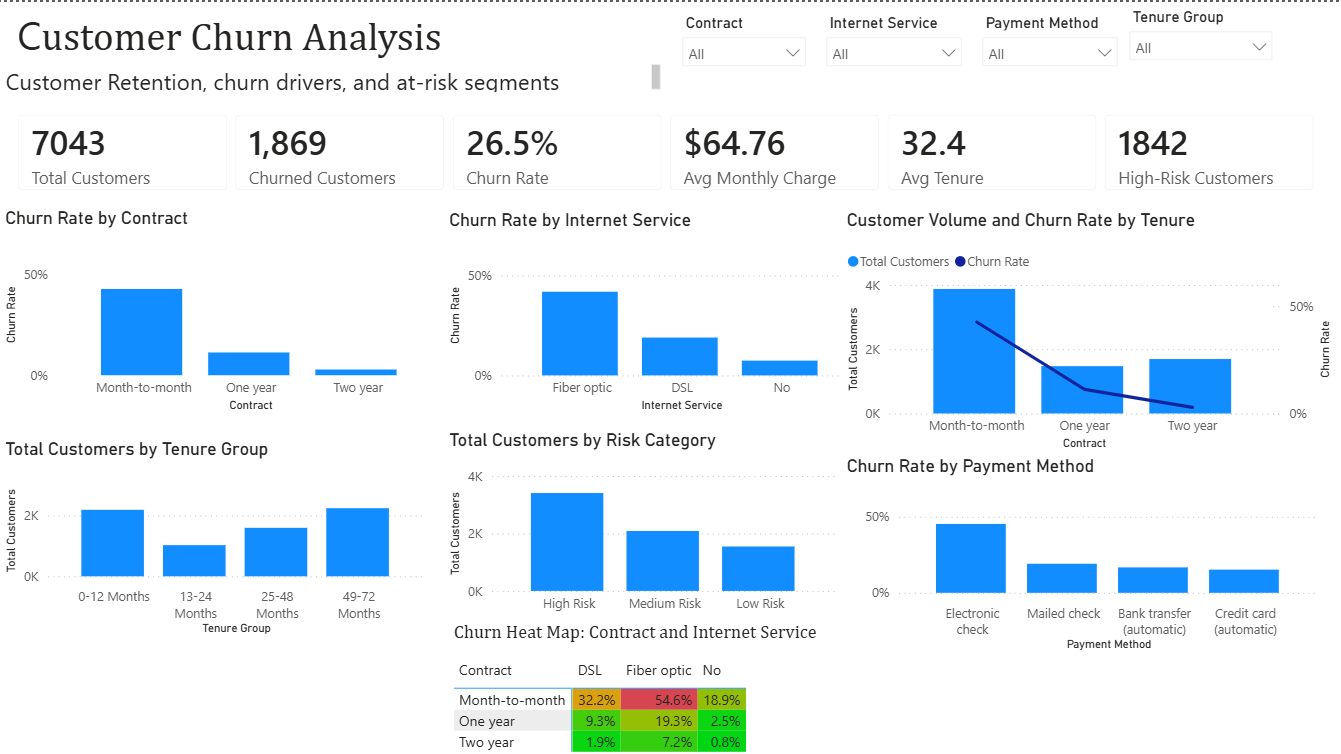

This screenshot's page, from the dashboard's own definition file:
{"tool":"powerbi","page":{"name":"Churn Overview","canvas":[1280,720],"ordinal":0},"visuals":[{"type":"textbox","box":[11.2,0,1143.8,67.5],"z":0},{"type":"textbox","box":[0,53.8,633.8,36.2],"z":1000},{"type":"cardVisual","fields":{"Data":["Measure.Total Customer","Measure.Churned Customer","Measure.Churn Rate","Measure.Avg Monthly Charge","Measure.Avg Tenure","Measure.High-Risk Customer"]},"box":[0,90,1271.2,106.2],"z":2000},{"type":"clusteredColumnChart","fields":{"Category":["Telco Customers.Contract"],"Y":["Measure.Churn Rate"]},"box":[0,196.2,427.5,198.8],"z":3000},{"type":"clusteredColumnChart","fields":{"Category":["Telco Customers.InternetService"],"Y":["Measure.Churn Rate"]},"box":[422.5,197.5,402.5,197.5],"z":4000},{"type":"clusteredColumnChart","title":"Total Customers by Tenure Group","fields":{"Category":["Telco Customers.Tenure Group"],"Y":["Measure.Total Customer"]},"box":[0,415,408.8,191.2],"z":5000},{"type":"lineClusteredColumnComboChart","title":"Customer Volume and Churn Rate by Tenure","fields":{"Category":["Telco Customers.Contract"],"Y":["Measure.Total Customer"],"Y2":["Measure.Churn Rate"]},"box":[801.2,197.5,471.2,233.8],"z":6000},{"type":"pivotTable","title":"Churn Heat Map: Contract and Internet Service","fields":{"Columns":["Telco Customers.InternetService"],"Rows":["Telco Customers.Contract"],"Values":["Measure.Churn Rate"]},"box":[427.5,591.2,413.8,128.8],"z":7000},{"type":"clusteredColumnChart","fields":{"Category":["Telco Customers.PaymentMethod"],"Y":["Measure.Churn Rate"]},"box":[801.2,431.2,458.8,191.2],"z":8000},{"type":"clusteredColumnChart","title":"Total Customers by Risk Category","fields":{"Category":["Telco Customers.Risk Category"],"Y":["Measure.Total Customer"]},"box":[422.5,407.5,378.8,183.8],"z":9000},{"type":"slicer","fields":{"Values":["Telco Customers.Contract"]},"box":[640,5,137.5,62.5],"z":10000},{"type":"slicer","fields":{"Values":["Telco Customers.InternetService"]},"box":[777.5,5,148.8,72.5],"z":11000},{"type":"slicer","fields":{"Values":["Telco Customers.PaymentMethod"]},"box":[926.2,5,148.8,67.5],"z":12000},{"type":"slicer","fields":{"Values":["Telco Customers.Tenure Group"]},"box":[1065,0,156.2,67.5],"z":13000}]}

Visuals, with their boxes in screenshot pixels (x1, y1, x2, y2), scaled from the page's 1280x720 canvas onto the 1341x754 screenshot:
textbox: 12 0 1210 71
textbox: 0 56 664 94
cardVisual - Measure.Total Customer x Measure.Churned Customer: 0 94 1332 205
clusteredColumnChart - Telco Customers.Contract x Measure.Churn Rate: 0 205 448 414
clusteredColumnChart - Telco Customers.InternetService x Measure.Churn Rate: 443 207 864 414
"Total Customers by Tenure Group" clusteredColumnChart: 0 435 428 635
"Customer Volume and Churn Rate by Tenure" lineClusteredColumnComboChart: 839 207 1333 452
"Churn Heat Map: Contract and Internet Service" pivotTable: 448 619 881 753
clusteredColumnChart - Telco Customers.PaymentMethod x Measure.Churn Rate: 839 452 1320 652
"Total Customers by Risk Category" clusteredColumnChart: 443 427 839 619
slicer - Telco Customers.Contract: 670 5 815 71
slicer - Telco Customers.InternetService: 815 5 970 81
slicer - Telco Customers.PaymentMethod: 970 5 1126 76
slicer - Telco Customers.Tenure Group: 1116 0 1279 71
